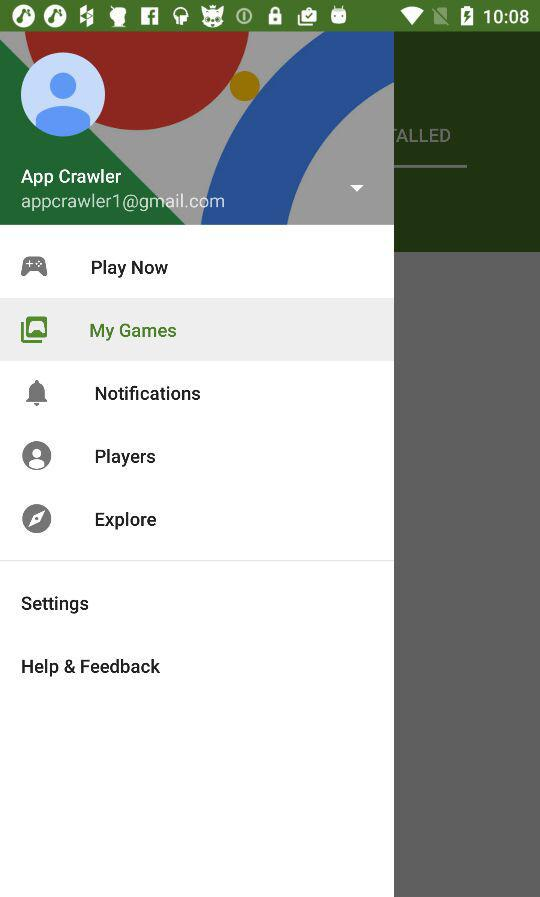Drawer: (1, 33, 395, 897)
Icon: (21, 53, 107, 138), (22, 504, 53, 534), (22, 441, 53, 471), (26, 380, 49, 407), (349, 185, 365, 193)
Image: (21, 316, 49, 345), (21, 256, 49, 278)
Text: (22, 192, 226, 213), (22, 658, 162, 678), (21, 168, 123, 188), (96, 385, 202, 402), (90, 323, 178, 343), (92, 260, 170, 279), (22, 595, 90, 615), (96, 511, 158, 531), (96, 448, 157, 468)
UpperTaskBar: (1, 1, 540, 33)
